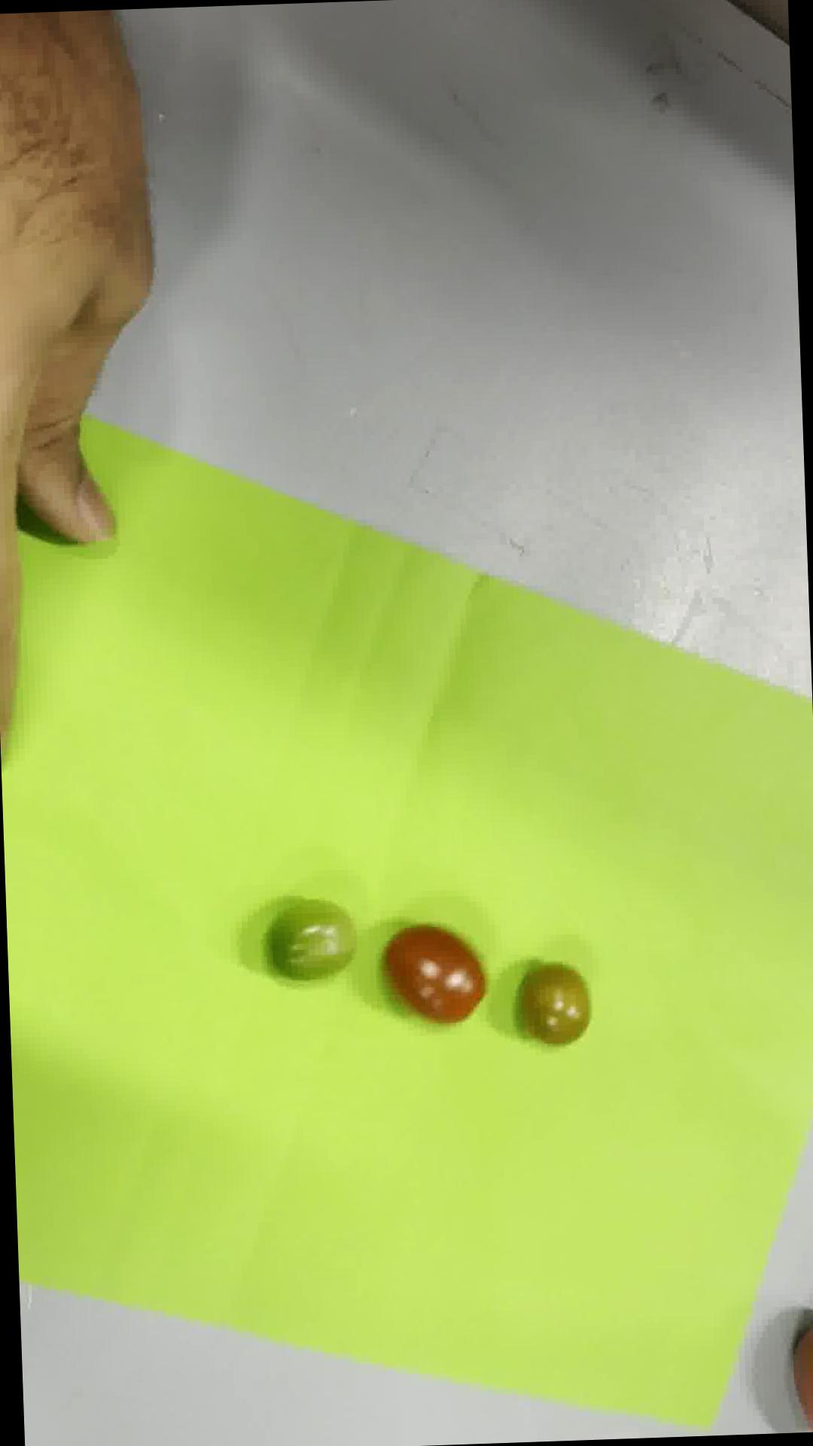green_cherry_tomato: (268, 899, 356, 980)
red_cherry_tomato: (384, 925, 485, 1022)
yellow_cherry_tomato: (518, 962, 591, 1044)
